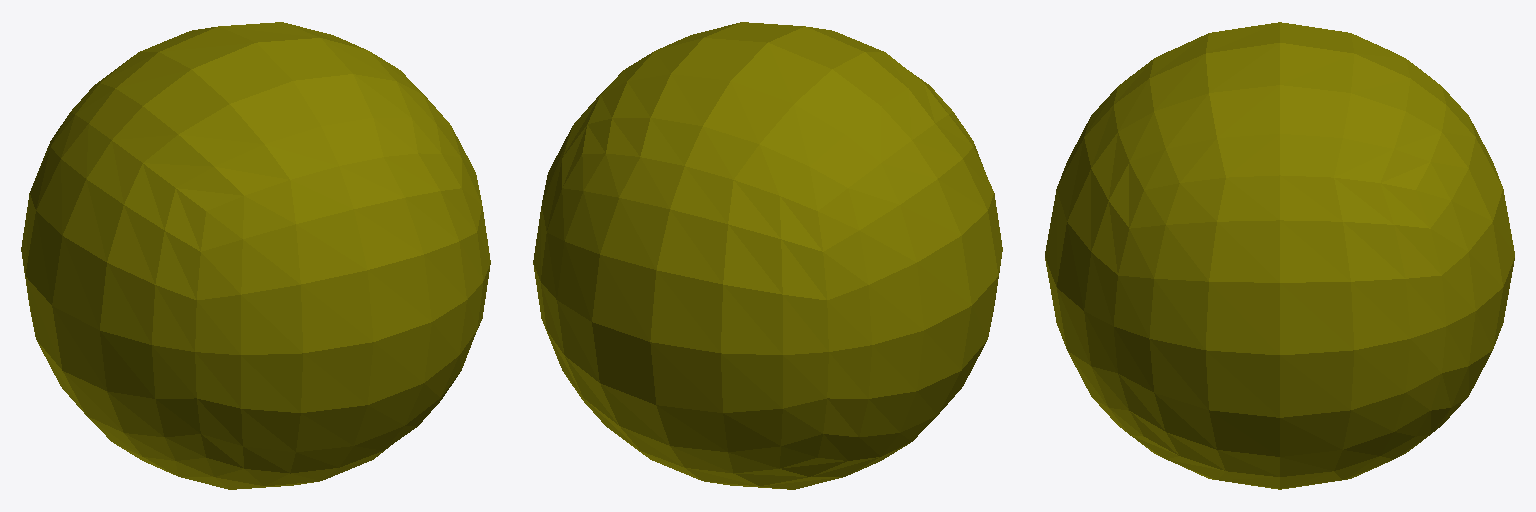
Rendered from plutoniumcore.obj.
3 views of the same model, side by side, from view 1: azimuth 30°, elevation 25°; view 2: azimuth 150°, elevation 25°; view 3: azimuth 270°, elevation 25° (orthographic).
Parts seen in each view (by area): view 1: Plutoniumcore1; view 2: Plutoniumcore1; view 3: Plutoniumcore1.
Part boxes in pixels (left/top/right/bottom): Plutoniumcore1: left=21, top=22, right=490, bottom=489; Plutoniumcore1: left=533, top=22, right=1002, bottom=489; Plutoniumcore1: left=1045, top=22, right=1514, bottom=489.
Bounding box in the file's own units: 2 × 2 × 2.